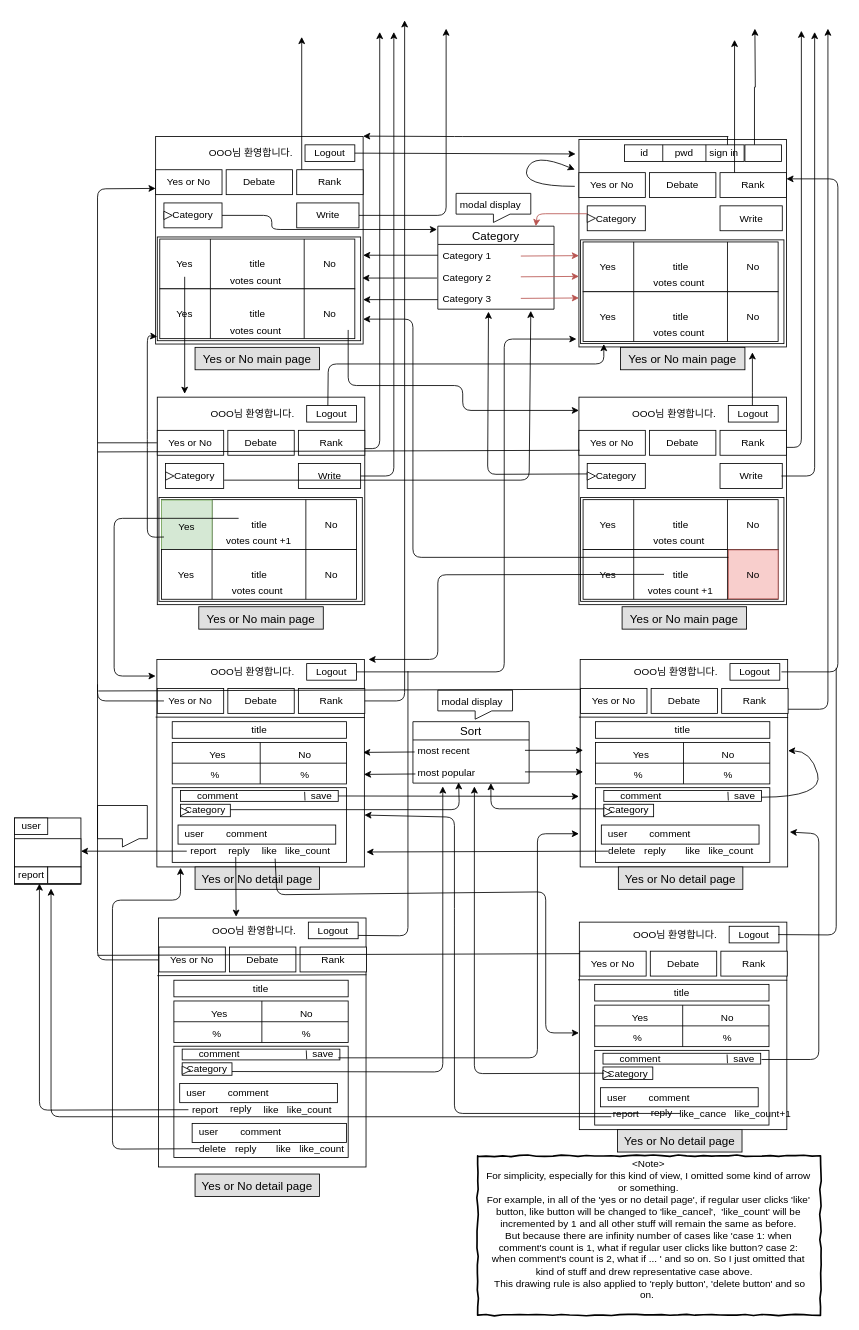
Some shapes in this 859 by 1330 pixel diagram are drawn without their labels. Here are the shapes that lost their labels. From the top down, the centre of each, then its label:
(x=762, y=152): sign up
(x=122, y=826): pop up this window
(x=47, y=852): reason
(x=64, y=875): cancel
